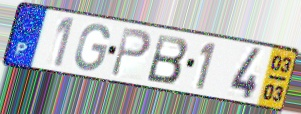1: (51, 15, 76, 70), (193, 41, 218, 92)
4: (228, 45, 263, 101)
B: (144, 32, 190, 85)
G: (73, 22, 112, 73)
P: (109, 26, 153, 79)
